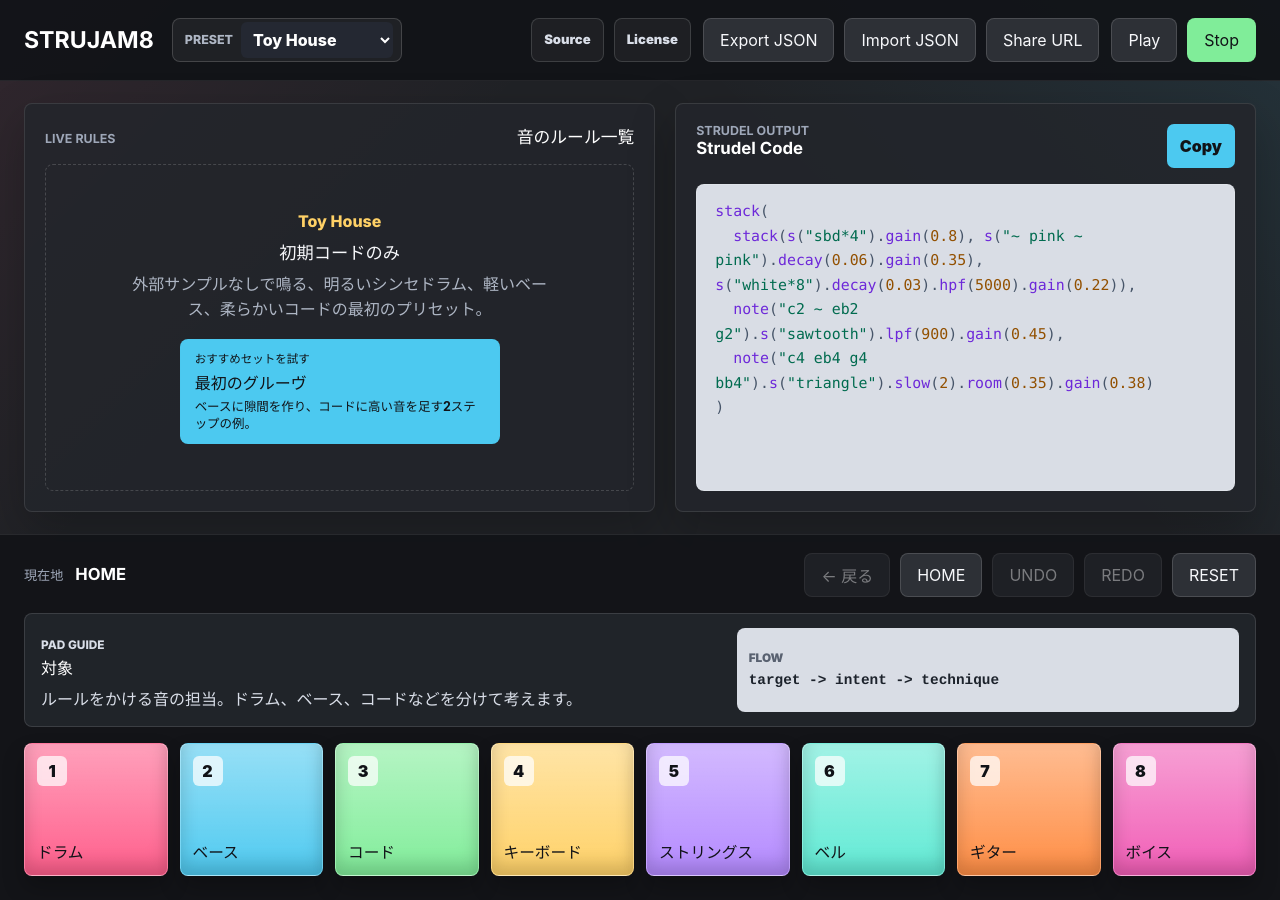
App audio recovery › shows Retry after a runtime failure while playing
Click the button with aria-label "Start Strudel audio preview" at {"x": 1144, "y": 40}, box [1111,18,1177,62]
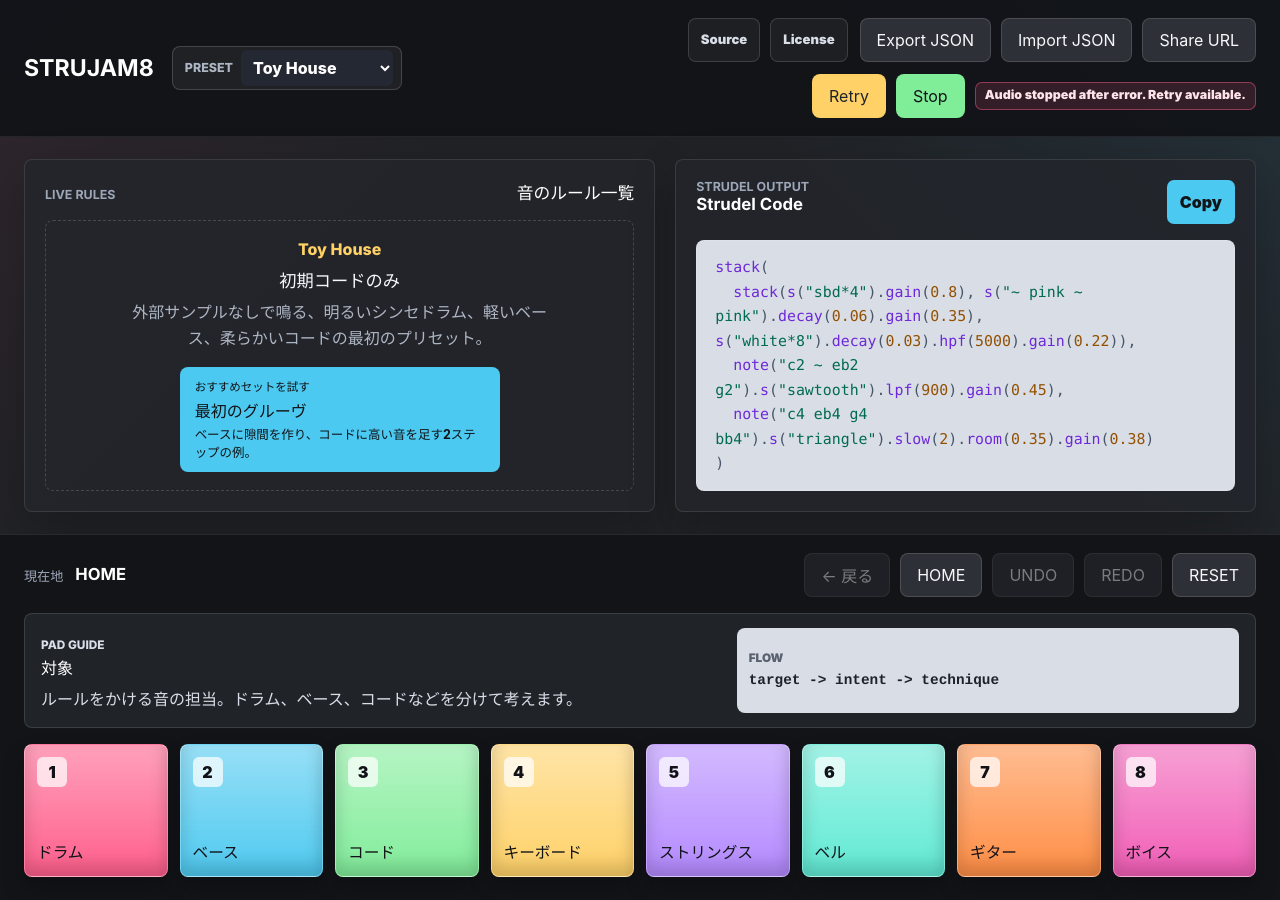
Result: the button with aria-label "Retry Strudel audio preview" is shown at [812,74,886,118]
Result: the text "Audio stopped after error. Retry available." is shown at [975,82,1256,110]
